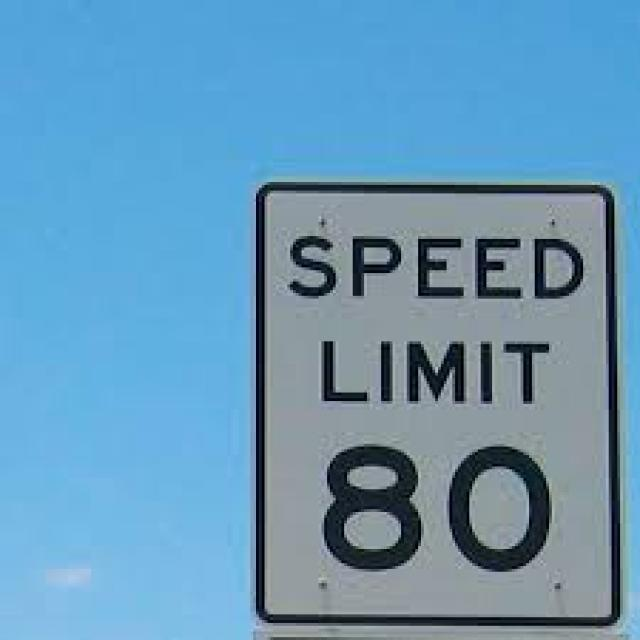speedLimit80: (250, 172, 626, 619)
